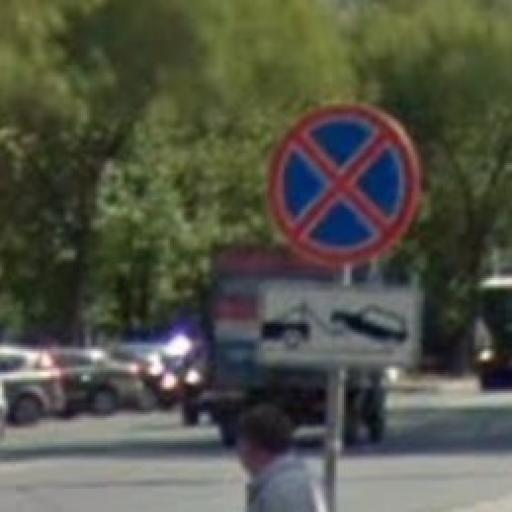traffic_sign: (266, 105, 422, 268)
